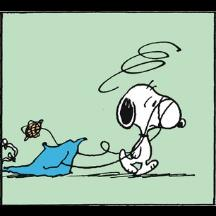snoopy: (114, 76, 188, 176)
